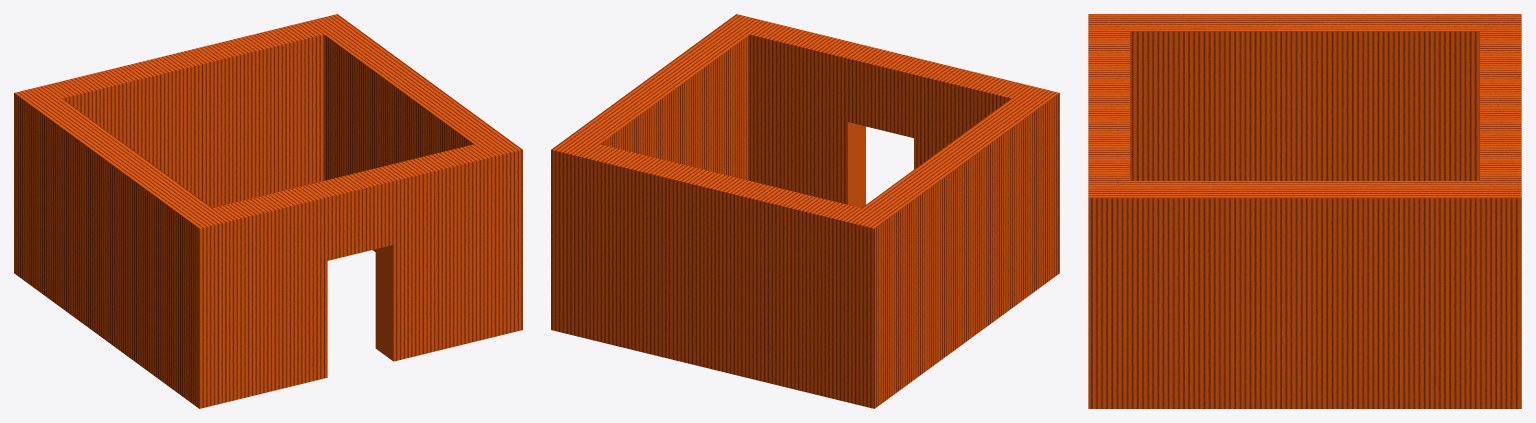
Rendered from mur2.glb.
3 renders of one model, left to right at view 1: azimuth 30°, elevation 25°; view 2: azimuth 150°, elevation 25°; view 3: azimuth 270°, elevation 25°, orthographic. The views are drawn at different scales.
Visible parts, largest first — view 1: Cube; view 2: Cube; view 3: Cube.
Part boxes in pixels (left/top/right/bottom): Cube: left=14, top=14, right=522, bottom=408; Cube: left=551, top=14, right=1059, bottom=408; Cube: left=1088, top=14, right=1521, bottom=408.
Size of the model in its own units: 9.94 by 5.3 by 9.87.
Materials: 1 (1 with a texture image).
